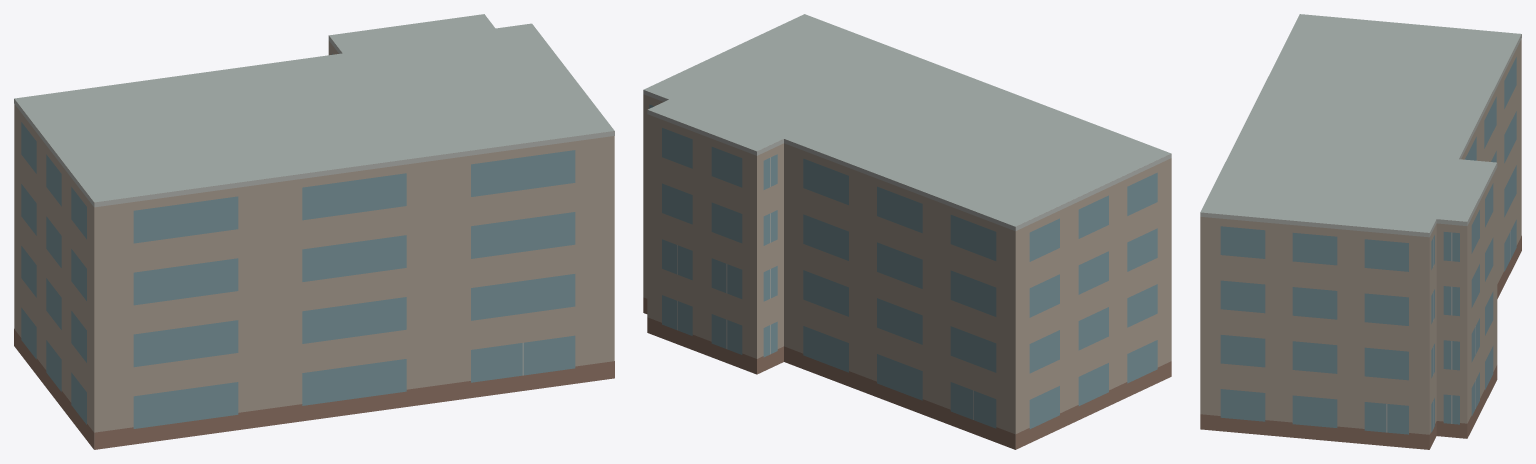
The model's file is residential-a5df77ea-3ddc-422f-b8ad-a57ea9fc4c38.glb.
3 views of the same model, side by side, from view 1: azimuth 30°, elevation 25°; view 2: azimuth 150°, elevation 25°; view 3: azimuth 270°, elevation 25° (orthographic). The views are drawn at different scales.
Visible parts, largest first — view 1: residential-a5df77ea-3ddc-422f-b8ad-a57ea9fc4c38.tmp; view 2: residential-a5df77ea-3ddc-422f-b8ad-a57ea9fc4c38.tmp; view 3: residential-a5df77ea-3ddc-422f-b8ad-a57ea9fc4c38.tmp.
Boxes of the visible parts, bbox=[...] form: residential-a5df77ea-3ddc-422f-b8ad-a57ea9fc4c38.tmp: bbox=[14, 14, 614, 449]; residential-a5df77ea-3ddc-422f-b8ad-a57ea9fc4c38.tmp: bbox=[643, 14, 1171, 449]; residential-a5df77ea-3ddc-422f-b8ad-a57ea9fc4c38.tmp: bbox=[1200, 14, 1521, 449].
Size of the model in its own units: 26.42 by 12.2 by 16.4.
